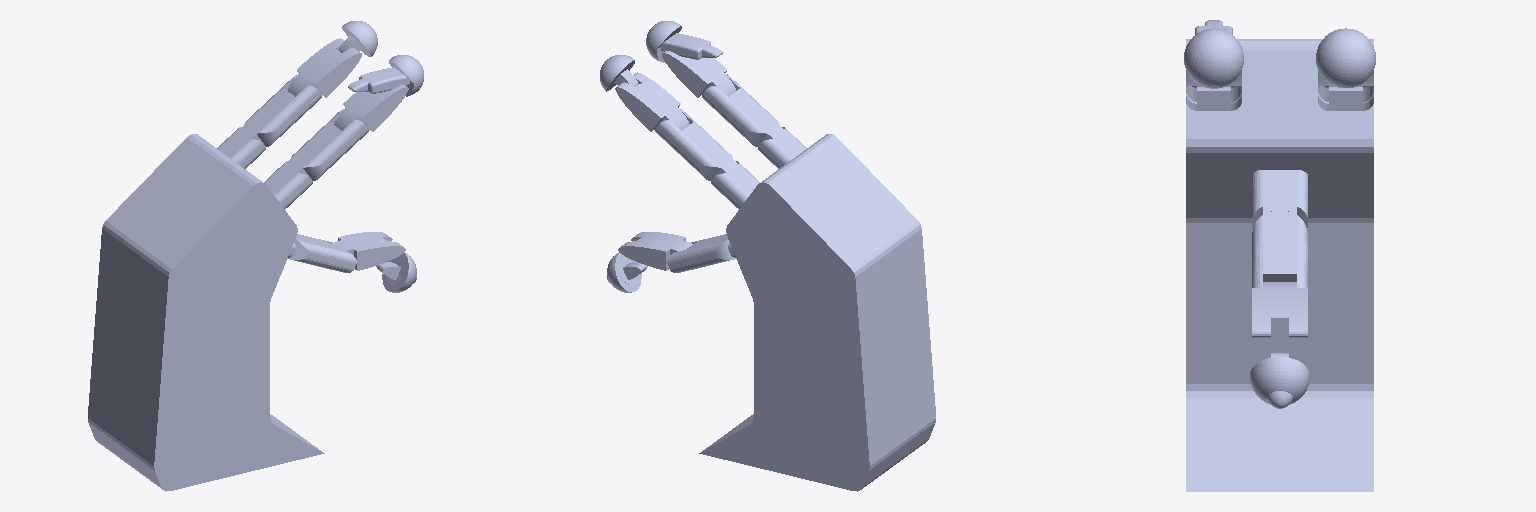
The robot description file, URDF, robot "hand":
<?xml version="1.0" encoding="utf-8"?>
<!-- This URDF was automatically created by SolidWorks to URDF Exporter! Originally created by [author] ([email redacted]) 
     Commit Version: 1.6.0-4-g7f85cfe  Build Version: 1.6.7995.38578
     For more information, please see http://wiki.ros.org/sw_urdf_exporter -->
<robot
  name="hand">
  <link
    name="base_link">
    <inertial>
      <origin
        xyz="-0.0936672124273331 1.63489888294066E-10 0.535231939309103"
        rpy="0 0 0" />
      <mass
        value="279.343309739745" />
      <inertia
        ixx="34.9281247022782"
        ixy="-8.13293010180577E-09"
        ixz="-2.07006228380223"
        iyy="35.7141019454583"
        iyz="-2.13551763091779E-09"
        izz="12.2415875307062" />
    </inertial>
    <visual>
      <origin
        xyz="0 0 0"
        rpy="0 0 0" />
      <geometry>
        <mesh
          filename="package://dexterous/meshes/base_link.STL" />
      </geometry>
      <material
        name="">
        <color
          rgba="0.792156862745098 0.819607843137255 0.933333333333333 1" />
      </material>
    </visual>
    <collision>
      <origin
        xyz="0 0 0"
        rpy="0 0 0" />
      <geometry>
        <mesh
          filename="package://dexterous/meshes/base_link.STL" />
      </geometry>
    </collision>
  </link>
  <link
    name="finger_1">
    <inertial>
      <origin
        xyz="0.0582113837489122 4.16223521204628E-08 0.0400000490502329"
        rpy="0 0 0" />
      <mass
        value="2.62291219261926" />
      <inertia
        ixx="0.00599150094431569"
        ixy="2.04568885344446E-08"
        ixz="1.56227476747362E-08"
        iyy="0.0153590426966866"
        iyz="-1.69856752756128E-07"
        izz="0.0188065552886403" />
    </inertial>
    <visual>
      <origin
        xyz="0 0 0"
        rpy="0 0 0" />
      <geometry>
        <mesh
          filename="package://dexterous/meshes/finger_1.STL" />
      </geometry>
      <material
        name="">
        <color
          rgba="0.792156862745098 0.819607843137255 0.933333333333333 1" />
      </material>
    </visual>
    <collision>
      <origin
        xyz="0 0 0"
        rpy="0 0 0" />
      <geometry>
        <mesh
          filename="package://dexterous/meshes/finger_1.STL" />
      </geometry>
    </collision>
  </link>
  <joint
    name="fin1"
    type="revolute">
    <origin
      xyz="0.308639953146409 0.175 1.22256279986678"
      rpy="3.14159265358979 -0.582486579623969 0" />
    <parent
      link="base_link" />
    <child
      link="finger_1" />
    <axis
      xyz="0 0 1" />
    <limit
      lower="-1"
      upper="1"
      effort="0"
      velocity="0" />
  </joint>
  <link
    name="finger_1_1">
    <inertial>
      <origin
        xyz="0.0912174387332344 0.0600874065867316 2.78205906034668E-07"
        rpy="0 0 0" />
      <mass
        value="2.39969138530032" />
      <inertia
        ixx="0.00825489500630393"
        ixy="-0.00491190228357168"
        ixz="-2.00018381331709E-08"
        iyy="0.0124758879394617"
        iyz="-1.14992762721286E-08"
        izz="0.0126581634000926" />
    </inertial>
    <visual>
      <origin
        xyz="0 0 0"
        rpy="0 0 0" />
      <geometry>
        <mesh
          filename="package://dexterous/meshes/finger_1_1.STL" />
      </geometry>
      <material
        name="">
        <color
          rgba="0.792156862745098 0.819607843137255 0.933333333333333 1" />
      </material>
    </visual>
    <collision>
      <origin
        xyz="0 0 0"
        rpy="0 0 0" />
      <geometry>
        <mesh
          filename="package://dexterous/meshes/finger_1_1.STL" />
      </geometry>
    </collision>
  </link>
  <joint
    name="fin1_1"
    type="revolute">
    <origin
      xyz="0.179528059776071 0 0.0399996964134806"
      rpy="-1.5707963267949 -0.582486579623969 0" />
    <parent
      link="finger_1" />
    <child
      link="finger_1_1" />
    <axis
      xyz="-4.99498279141106E-05 -3.29033596607708E-05 -0.999999998211192" />
    <limit
      lower="0"
      upper="2"
      effort="0"
      velocity="0" />
  </joint>
  <link
    name="finger_1_1_1">
    <inertial>
      <origin
        xyz="0.0527784322758119 0.0347666889774279 -4.76739692167882E-09"
        rpy="0 0 0" />
      <mass
        value="1.2195909202896" />
      <inertia
        ixx="0.00266721627307185"
        ixy="0.00019996895051314"
        ixz="8.82126930819854E-10"
        iyy="0.00249537581218203"
        iyz="5.93373254535351E-10"
        izz="0.00235597919144712" />
    </inertial>
    <visual>
      <origin
        xyz="0 0 0"
        rpy="0 0 0" />
      <geometry>
        <mesh
          filename="package://dexterous/meshes/finger_1_1_1.STL" />
      </geometry>
      <material
        name="">
        <color
          rgba="0.792156862745098 0.819607843137255 0.933333333333333 1" />
      </material>
    </visual>
    <collision>
      <origin
        xyz="0 0 0"
        rpy="0 0 0" />
      <geometry>
        <mesh
          filename="package://dexterous/meshes/finger_1_1_1.STL" />
      </geometry>
    </collision>
  </link>
  <joint
    name="fin1_1_1"
    type="revolute">
    <origin
      xyz="0.204435726444991 0.134667212398081 0"
      rpy="0 0 0" />
    <parent
      link="finger_1_1" />
    <child
      link="finger_1_1_1" />
    <axis
      xyz="4.99498279133785E-05 3.29033596622835E-05 0.999999998211192" />
    <limit
      lower="-2"
      upper="0"
      effort="0"
      velocity="0" />
  </joint>
  <link
    name="finger_1_eef">
    <inertial>
      <origin
        xyz="0.0188171280224169 -4.76739692167882E-09 -0.0123954207107375"
        rpy="0 0 0" />
      <mass
        value="1.2195909202896" />
      <inertia
        ixx="0.00266721627307185"
        ixy="8.82126930789128E-10"
        ixz="-0.00019996895051314"
        iyy="0.00235597919144712"
        iyz="-5.93373254516341E-10"
        izz="0.00249537581218203" />
    </inertial>
    <visual>
      <origin
        xyz="0 0 0"
        rpy="0 0 0" />
      <geometry>
        <mesh
          filename="package://dexterous/meshes/finger_1_eef.STL" />
      </geometry>
      <material
        name="">
        <color
          rgba="0.792156862745098 0.819607843137255 0.933333333333333 1" />
      </material>
    </visual>
    <collision>
      <origin
        xyz="0 0 0"
        rpy="0 0 0" />
      <geometry>
        <mesh
          filename="package://dexterous/meshes/finger_1_eef.STL" />
      </geometry>
    </collision>
  </link>
  <joint
    name="fin1_eef"
    type="fixed">
    <origin
      xyz="0.0339613042533951 0.0223712682666903 0"
      rpy="1.5707963267949 0 0" />
    <parent
      link="finger_1_1_1" />
    <child
      link="finger_1_eef" />
    <axis
      xyz="0 0 0" />
  </joint>
  <link
    name="finger_2">
    <inertial>
      <origin
        xyz="0.0582113997401504 7.20593135161707E-08 0.0399998347308493"
        rpy="0 0 0" />
      <mass
        value="2.62291216939468" />
      <inertia
        ixx="0.00599168928524379"
        ixy="2.54236843800562E-08"
        ixz="-6.34236507683454E-08"
        iyy="0.015358778569781"
        iyz="-1.78838763283497E-07"
        izz="0.0188064904153421" />
    </inertial>
    <visual>
      <origin
        xyz="0 0 0"
        rpy="0 0 0" />
      <geometry>
        <mesh
          filename="package://dexterous/meshes/finger_2.STL" />
      </geometry>
      <material
        name="">
        <color
          rgba="0.792156862745098 0.819607843137255 0.933333333333333 1" />
      </material>
    </visual>
    <collision>
      <origin
        xyz="0 0 0"
        rpy="0 0 0" />
      <geometry>
        <mesh
          filename="package://dexterous/meshes/finger_2.STL" />
      </geometry>
    </collision>
  </link>
  <joint
    name="fin2"
    type="revolute">
    <origin
      xyz="0.382548654972508 0 0.780508398722002"
      rpy="3.14159265358979 0.436413643527903 0" />
    <parent
      link="base_link" />
    <child
      link="finger_2" />
    <axis
      xyz="0 0 1" />
    <limit
      lower="-1"
      upper="1"
      effort="0"
      velocity="0" />
  </joint>
  <link
    name="finger_2_1">
    <inertial>
      <origin
        xyz="0.0989919072013307 -0.0461704453918806 2.80457902568365E-07"
        rpy="0 0 0" />
      <mass
        value="2.39968898922773" />
      <inertia
        ixx="0.00692960842888985"
        ixy="0.00409589220427107"
        ixz="-2.11861548475042E-08"
        iyy="0.0138011469966554"
        iyz="1.07269708711359E-08"
        izz="0.0126581396998082" />
    </inertial>
    <visual>
      <origin
        xyz="0 0 0"
        rpy="0 0 0" />
      <geometry>
        <mesh
          filename="package://dexterous/meshes/finger_2_1.STL" />
      </geometry>
      <material
        name="">
        <color
          rgba="0.792156862745098 0.819607843137255 0.933333333333333 1" />
      </material>
    </visual>
    <collision>
      <origin
        xyz="0 0 0"
        rpy="0 0 0" />
      <geometry>
        <mesh
          filename="package://dexterous/meshes/finger_2_1.STL" />
      </geometry>
    </collision>
  </link>
  <joint
    name="fin2_1"
    type="revolute">
    <origin
      xyz="0.179528059776071 0 0.0399996964134798"
      rpy="-1.5707963267949 0.436413643527903 0" />
    <parent
      link="finger_2" />
    <child
      link="finger_2_1" />
    <axis
      xyz="0 0 -1" />
    <limit
      lower="-2"
      upper="0"
      effort="0"
      velocity="0" />
  </joint>
  <link
    name="finger_2_1_1">
    <inertial>
      <origin
        xyz="0.0572767994330112 -0.0267141823562029 -5.92834314971924E-09"
        rpy="0 0 0" />
      <mass
        value="1.21958916107902" />
      <inertia
        ixx="0.00272116821091195"
        ixy="-0.000166746141068286"
        ixz="9.1914220049119E-10"
        iyy="0.00244142078028997"
        iyz="-4.11542290988672E-10"
        izz="0.00235597934140298" />
    </inertial>
    <visual>
      <origin
        xyz="0 0 0"
        rpy="0 0 0" />
      <geometry>
        <mesh
          filename="package://dexterous/meshes/finger_2_1_1.STL" />
      </geometry>
      <material
        name="">
        <color
          rgba="0.792156862745098 0.819607843137255 0.933333333333333 1" />
      </material>
    </visual>
    <collision>
      <origin
        xyz="0 0 0"
        rpy="0 0 0" />
      <geometry>
        <mesh
          filename="package://dexterous/meshes/finger_2_1_1.STL" />
      </geometry>
    </collision>
  </link>
  <joint
    name="fin2_1_1"
    type="revolute">
    <origin
      xyz="0.221859646346035 -0.103477155282569 0"
      rpy="0 0 0" />
    <parent
      link="finger_2_1" />
    <child
      link="finger_2_1_1" />
    <axis
      xyz="0 0 1" />
    <limit
      lower="0"
      upper="2"
      effort="0"
      velocity="0" />
  </joint>
  <link
    name="finger_2_eef">
    <inertial>
      <origin
        xyz="0.020420944727896 -5.92834314971924E-09 0.00952436547505686"
        rpy="0 0 0" />
      <mass
        value="1.21958916107902" />
      <inertia
        ixx="0.00272116821091195"
        ixy="9.1914220047405E-10"
        ixz="0.000166746141068286"
        iyy="0.00235597934140298"
        iyz="4.11542290979969E-10"
        izz="0.00244142078028997" />
    </inertial>
    <visual>
      <origin
        xyz="0 0 0"
        rpy="0 0 0" />
      <geometry>
        <mesh
          filename="package://dexterous/meshes/finger_2_eef.STL" />
      </geometry>
      <material
        name="">
        <color
          rgba="0.792156862745098 0.819607843137255 0.933333333333333 1" />
      </material>
    </visual>
    <collision>
      <origin
        xyz="0 0 0"
        rpy="0 0 0" />
      <geometry>
        <mesh
          filename="package://dexterous/meshes/finger_2_eef.STL" />
      </geometry>
    </collision>
  </link>
  <joint
    name="fin2_eef"
    type="fixed">
    <origin
      xyz="0.0368558547051152 -0.0171898168811461 0"
      rpy="1.5707963267949 0 0" />
    <parent
      link="finger_2_1_1" />
    <child
      link="finger_2_eef" />
    <axis
      xyz="0 0 0" />
  </joint>
  <link
    name="finger_3">
    <inertial>
      <origin
        xyz="0.0582113837489122 4.16223523425074E-08 0.0400000490502331"
        rpy="0 0 0" />
      <mass
        value="2.62291219261926" />
      <inertia
        ixx="0.00599150094431568"
        ixy="2.04568885529867E-08"
        ixz="1.56227476534859E-08"
        iyy="0.0153590426966865"
        iyz="-1.69856752755103E-07"
        izz="0.0188065552886402" />
    </inertial>
    <visual>
      <origin
        xyz="0 0 0"
        rpy="0 0 0" />
      <geometry>
        <mesh
          filename="package://dexterous/meshes/finger_3.STL" />
      </geometry>
      <material
        name="">
        <color
          rgba="0.792156862745098 0.819607843137255 0.933333333333333 1" />
      </material>
    </visual>
    <collision>
      <origin
        xyz="0 0 0"
        rpy="0 0 0" />
      <geometry>
        <mesh
          filename="package://dexterous/meshes/finger_3.STL" />
      </geometry>
    </collision>
  </link>
  <joint
    name="fin3"
    type="revolute">
    <origin
      xyz="0.308639953146409 -0.175 1.22256279986678"
      rpy="3.14159265358979 -0.58248657962397 0" />
    <parent
      link="base_link" />
    <child
      link="finger_3" />
    <axis
      xyz="0 0 1" />
    <limit
      lower="-1"
      upper="1"
      effort="0"
      velocity="0" />
  </joint>
  <link
    name="finger_3_1">
    <inertial>
      <origin
        xyz="0.091217438733235 0.060087406586731 2.78205906534268E-07"
        rpy="0 0 0" />
      <mass
        value="2.39969138530032" />
      <inertia
        ixx="0.00825489500630393"
        ixy="-0.00491190228357168"
        ixz="-2.00018381498108E-08"
        iyy="0.0124758879394616"
        iyz="-1.14992762793102E-08"
        izz="0.0126581634000926" />
    </inertial>
    <visual>
      <origin
        xyz="0 0 0"
        rpy="0 0 0" />
      <geometry>
        <mesh
          filename="package://dexterous/meshes/finger_3_1.STL" />
      </geometry>
      <material
        name="">
        <color
          rgba="0.792156862745098 0.819607843137255 0.933333333333333 1" />
      </material>
    </visual>
    <collision>
      <origin
        xyz="0 0 0"
        rpy="0 0 0" />
      <geometry>
        <mesh
          filename="package://dexterous/meshes/finger_3_1.STL" />
      </geometry>
    </collision>
  </link>
  <joint
    name="fin3_1"
    type="revolute">
    <origin
      xyz="0.179528059776071 0 0.03999969641348"
      rpy="-1.5707963267949 -0.58248657962397 0" />
    <parent
      link="finger_3" />
    <child
      link="finger_3_1" />
    <axis
      xyz="0 0 -1" />
    <limit
      lower="0"
      upper="2"
      effort="0"
      velocity="0" />
  </joint>
  <link
    name="finger_3_1_1">
    <inertial>
      <origin
        xyz="0.0527784322758127 0.0347666889774283 -4.76739669963422E-09"
        rpy="0 0 0" />
      <mass
        value="1.21959092028959" />
      <inertia
        ixx="0.00266721497330702"
        ixy="0.000199970605801"
        ixz="1.48943468103907E-09"
        iyy="0.00249537319047578"
        iyz="1.00825650294165E-09"
        izz="0.00235597566360135" />
    </inertial>
    <visual>
      <origin
        xyz="0 0 0"
        rpy="0 0 0" />
      <geometry>
        <mesh
          filename="package://dexterous/meshes/finger_3_1_1.STL" />
      </geometry>
      <material
        name="">
        <color
          rgba="0.792156862745098 0.819607843137255 0.933333333333333 1" />
      </material>
    </visual>
    <collision>
      <origin
        xyz="0 0 0"
        rpy="0 0 0" />
      <geometry>
        <mesh
          filename="package://dexterous/meshes/finger_3_1_1.STL" />
      </geometry>
    </collision>
  </link>
  <joint
    name="fin3_1_1"
    type="revolute">
    <origin
      xyz="0.20443572644499 0.13466721239808 0"
      rpy="0 0 0" />
    <parent
      link="finger_3_1" />
    <child
      link="finger_3_1_1" />
    <axis
      xyz="0 0 -1" />
    <limit
      lower="0"
      upper="2"
      effort="0"
      velocity="0" />
  </joint>
  <link
    name="finger_3_eef">
    <inertial>
      <origin
        xyz="0.0188171280224176 -4.76739669963422E-09 -0.012395420710738"
        rpy="0 0 0" />
      <mass
        value="1.21959092028959" />
      <inertia
        ixx="0.00266721497330702"
        ixy="1.48943468102324E-09"
        ixz="-0.000199970605801"
        iyy="0.00235597566360135"
        iyz="-1.00825650293072E-09"
        izz="0.00249537319047578" />
    </inertial>
    <visual>
      <origin
        xyz="0 0 0"
        rpy="0 0 0" />
      <geometry>
        <mesh
          filename="package://dexterous/meshes/finger_3_eef.STL" />
      </geometry>
      <material
        name="">
        <color
          rgba="0.792156862745098 0.819607843137255 0.933333333333333 1" />
      </material>
    </visual>
    <collision>
      <origin
        xyz="0 0 0"
        rpy="0 0 0" />
      <geometry>
        <mesh
          filename="package://dexterous/meshes/finger_3_eef.STL" />
      </geometry>
    </collision>
  </link>
  <joint
    name="fin3_eef"
    type="fixed">
    <origin
      xyz="0.0339613042533951 0.0223712682666903 0"
      rpy="1.5707963267949 0 0" />
    <parent
      link="finger_3_1_1" />
    <child
      link="finger_3_eef" />
    <axis
      xyz="0 0 0" />
  </joint>
</robot>

--- What the picture shows (computed from the rendered views, not written in the file) ---
Views: 3 orthographic renders of the robot side by side, from view 1: azimuth 30°, elevation 25°; view 2: azimuth 150°, elevation 25°; view 3: azimuth 270°, elevation 25°.
Model hand with 13 links and 12 joints (9 revolute, 3 fixed), rooted at base_link, posed all joints at 0.
Visible links, largest first — view 1: base_link, finger_3, finger_1, finger_1_1, finger_3_1, finger_2_1, finger_2, finger_3_eef, finger_1_1_1, finger_2_eef, finger_3_1_1; view 2: base_link, finger_1, finger_3, finger_1_1, finger_3_1, finger_2_1, finger_2, finger_3_eef, finger_1_1_1, finger_2_eef, finger_3_1_1; view 3: base_link, finger_2, finger_2_1, finger_1_1_1, finger_3_1_1, finger_2_eef, finger_3_eef, finger_1, finger_3.
Link boxes in pixels (bbox=[...]): base_link: bbox=[88, 126, 324, 491]; finger_3: bbox=[291, 109, 368, 180]; finger_1: bbox=[244, 74, 321, 146]; finger_1_1: bbox=[288, 38, 361, 97]; finger_3_1: bbox=[334, 85, 408, 131]; finger_2_1: bbox=[331, 232, 405, 270]; finger_2: bbox=[288, 234, 356, 272]; finger_3_eef: bbox=[348, 55, 423, 96]; finger_1_1_1: bbox=[339, 21, 377, 56]; finger_2_eef: bbox=[376, 252, 416, 292]; finger_3_1_1: bbox=[389, 55, 423, 89]; base_link: bbox=[699, 126, 935, 491]; finger_1: bbox=[655, 109, 732, 180]; finger_3: bbox=[702, 74, 779, 146]; finger_1_1: bbox=[615, 72, 689, 131]; finger_3_1: bbox=[662, 51, 735, 97]; finger_2_1: bbox=[618, 232, 692, 270]; finger_2: bbox=[667, 234, 735, 272]; finger_3_eef: bbox=[646, 21, 722, 62]; finger_1_1_1: bbox=[600, 55, 638, 91]; finger_2_eef: bbox=[607, 252, 647, 292]; finger_3_1_1: bbox=[646, 21, 681, 56]; base_link: bbox=[1186, 39, 1373, 491]; finger_2: bbox=[1252, 210, 1307, 287]; finger_2_1: bbox=[1252, 282, 1307, 337]; finger_1_1_1: bbox=[1316, 28, 1375, 87]; finger_3_1_1: bbox=[1184, 28, 1243, 87]; finger_2_eef: bbox=[1250, 357, 1309, 404]; finger_3_eef: bbox=[1184, 20, 1243, 88]; finger_1: bbox=[1318, 86, 1373, 102]; finger_3: bbox=[1186, 86, 1241, 102].
Size in the robot's own frame: 1.28 by 0.5097 by 1.52 metres.
Meshes: 13 distinct files referenced, 13 mesh visuals loaded (13 binary STL).